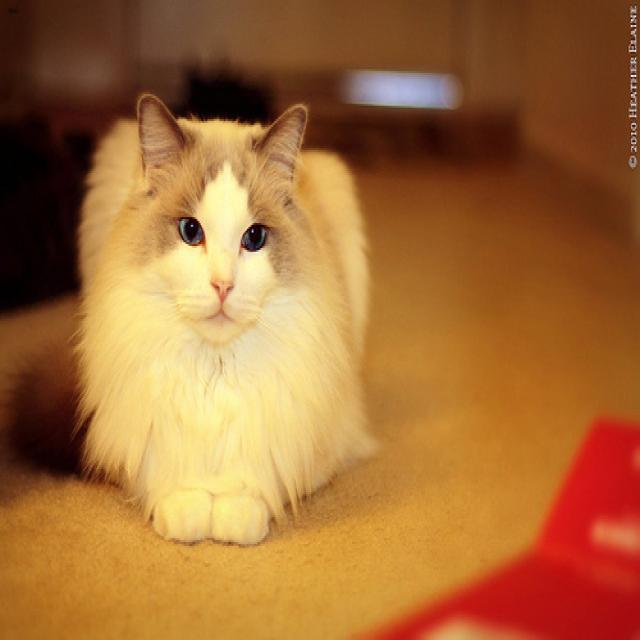Ragdoll: (111, 88, 310, 344)
